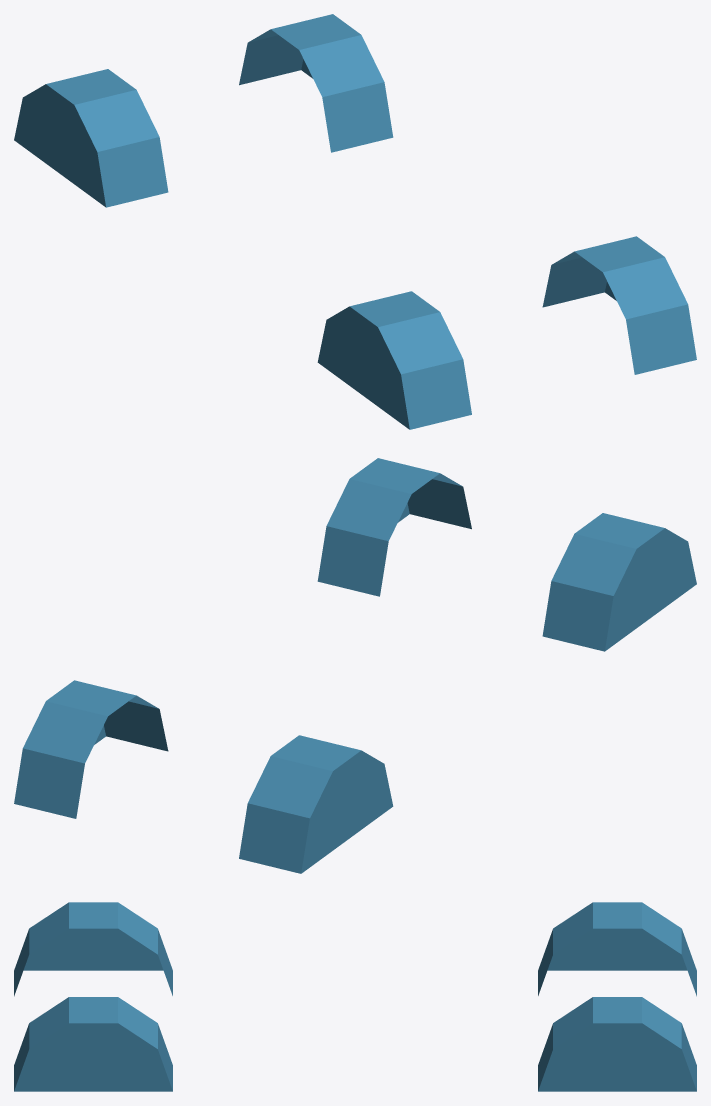
File: wheelGuards1.glb
3 renders of one model, top to bottom at view 1: azimuth 30°, elevation 25°; view 2: azimuth 150°, elevation 25°; view 3: azimuth 270°, elevation 25°, orthographic. The views are drawn at different scales.
Parts seen in each view (by area): view 1: wheelguards1; view 2: wheelguards1; view 3: wheelguards1.
Part boxes in pixels (x1,y1,x2,y2): wheelguards1: (14,14,696,429); wheelguards1: (14,458,696,873); wheelguards1: (14,902,696,1091).
Size of the model in its own units: 3.45 by 0.9124 by 8.24.
1 material, 1 textured.
